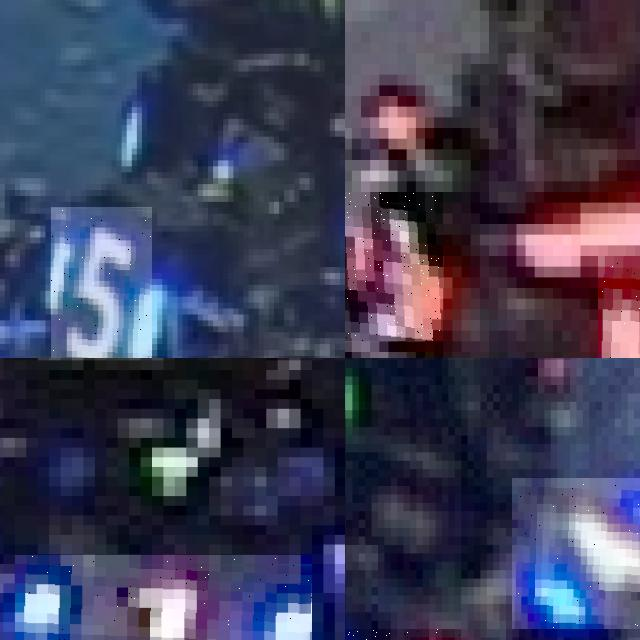B1: (15, 554, 312, 640)
B4: (512, 477, 640, 629)
B5: (50, 207, 152, 358)
R3: (345, 191, 443, 341)
